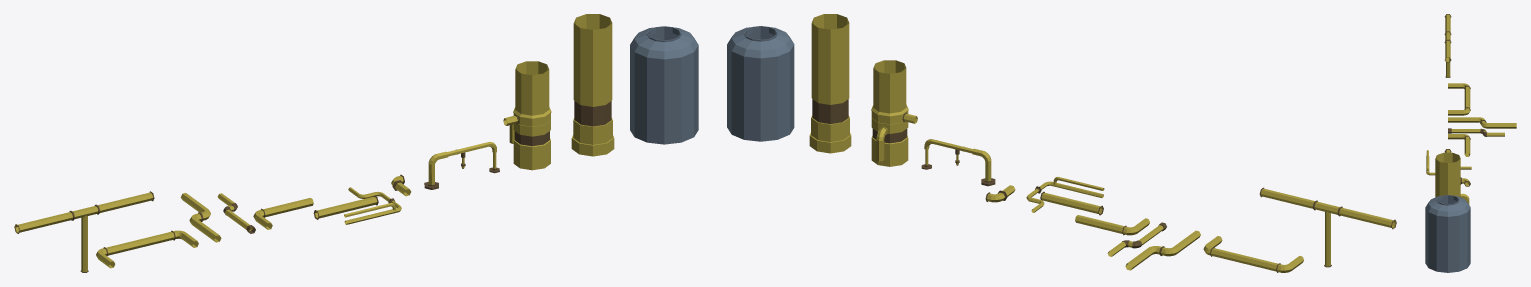
File: Pipes And Containers.fbx
3 renders of one model, left to right at view 1: azimuth 30°, elevation 25°; view 2: azimuth 150°, elevation 25°; view 3: azimuth 270°, elevation 25°, orthographic. The views are drawn at different scales.
Parts seen in each view (by area): view 1: Container_1, Container_2, Container_3, Pipe_9, Pipe_8, Pipe_1, Pipe_3, Pipe_7, Pipe_5, Pipe_4, Pipe_6; view 2: Container_1, Container_2, Container_3, Pipe_9, Pipe_8, Pipe_1, Pipe_3, Pipe_7, Pipe_5, Pipe_4, Pipe_6; view 3: Container_1, Container_2, Pipe_7, Pipe_8, Pipe_9, Pipe_6, Pipe_5, Pipe_3, Pipe_2.
Boxes of the visible parts, left/top/right/bottom form: Container_1: left=630, top=26, right=698, bottom=144; Container_2: left=571, top=14, right=614, bottom=156; Container_3: left=503, top=61, right=551, bottom=170; Pipe_9: left=14, top=191, right=154, bottom=272; Pipe_8: left=96, top=230, right=198, bottom=268; Pipe_1: left=424, top=141, right=499, bottom=189; Pipe_3: left=344, top=187, right=401, bottom=224; Pipe_7: left=180, top=193, right=221, bottom=242; Pipe_5: left=253, top=198, right=313, bottom=229; Pipe_4: left=313, top=195, right=378, bottom=219; Pipe_6: left=217, top=193, right=255, bottom=233; Container_1: left=727, top=26, right=794, bottom=141; Container_2: left=809, top=14, right=851, bottom=153; Container_3: left=871, top=60, right=917, bottom=166; Pipe_9: left=1259, top=187, right=1396, bottom=267; Pipe_8: left=1203, top=236, right=1303, bottom=272; Pipe_1: left=921, top=139, right=995, bottom=186; Pipe_3: left=1026, top=177, right=1104, bottom=212; Pipe_7: left=1125, top=230, right=1200, bottom=270; Pipe_5: left=1075, top=215, right=1149, bottom=235; Pipe_4: left=1040, top=191, right=1103, bottom=215; Pipe_6: left=1107, top=222, right=1166, bottom=256; Container_1: left=1425, top=195, right=1470, bottom=272; Container_2: left=1435, top=152, right=1460, bottom=197; Pipe_7: left=1448, top=117, right=1516, bottom=128; Pipe_8: left=1448, top=83, right=1470, bottom=115; Pipe_9: left=1444, top=14, right=1451, bottom=77; Pipe_6: left=1448, top=128, right=1504, bottom=136; Pipe_5: left=1448, top=134, right=1470, bottom=156; Pipe_3: left=1426, top=150, right=1471, bottom=175; Pipe_2: left=1460, top=177, right=1470, bottom=186.
Size of the model in its own units: 2256 by 415 by 399.
